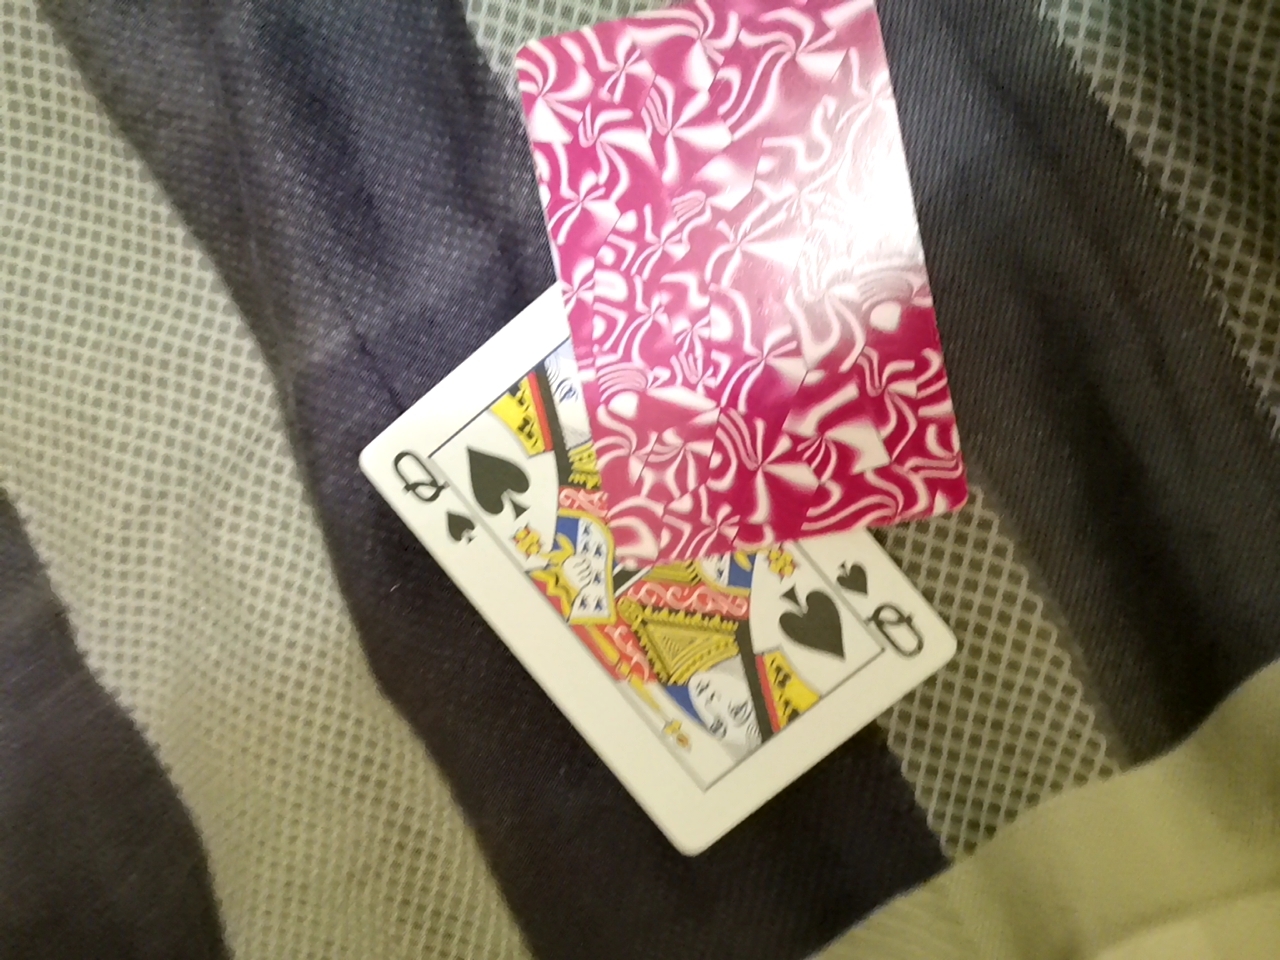ht q: (341, 165, 974, 896)
